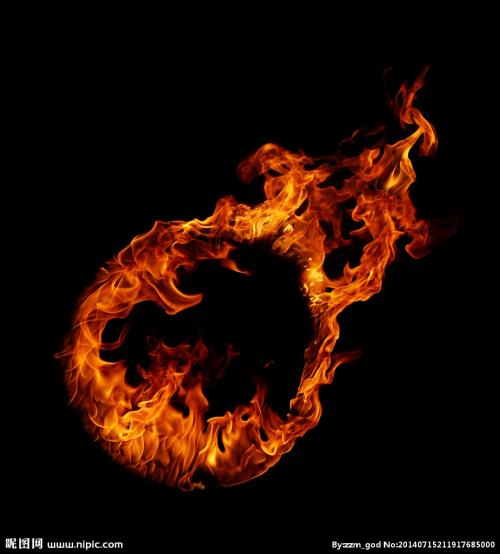fire: (235, 149, 423, 276), (76, 352, 295, 461)
